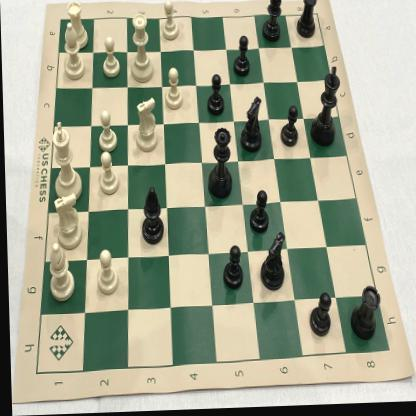black-bishop: (138, 187, 164, 250), (260, 0, 285, 46)
black-king: (308, 64, 342, 152)
black-knight: (257, 231, 286, 296), (239, 96, 264, 156)
black-pawn: (306, 291, 331, 342), (203, 73, 227, 120), (229, 34, 253, 80), (220, 245, 243, 292), (246, 190, 269, 236), (278, 106, 300, 153)
black-queen: (205, 126, 232, 203)
black-rook: (346, 284, 381, 344), (295, 0, 319, 43)
white-bishop: (44, 240, 76, 303), (59, 22, 86, 82)
white-king: (48, 118, 82, 204)
white-knight: (50, 192, 83, 251), (131, 98, 159, 156)
white-pawn: (93, 151, 121, 199), (94, 249, 118, 298), (99, 36, 122, 84), (163, 67, 186, 113), (95, 108, 117, 156), (159, 0, 181, 44)
white-queen: (127, 10, 155, 87)
white-rook: (66, 0, 89, 51)
